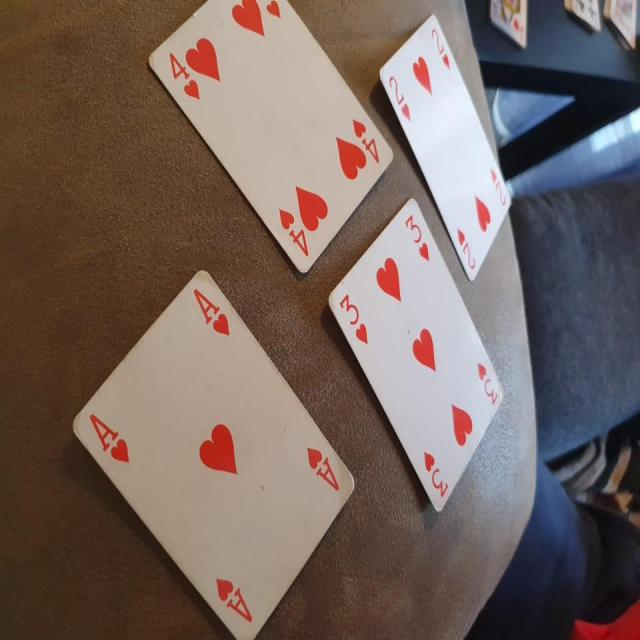2 Hearts: (381, 10, 521, 276)
3 Hearts: (322, 194, 508, 517)
4 Hearts: (140, 1, 391, 261)
A Hearts: (62, 265, 355, 638)
